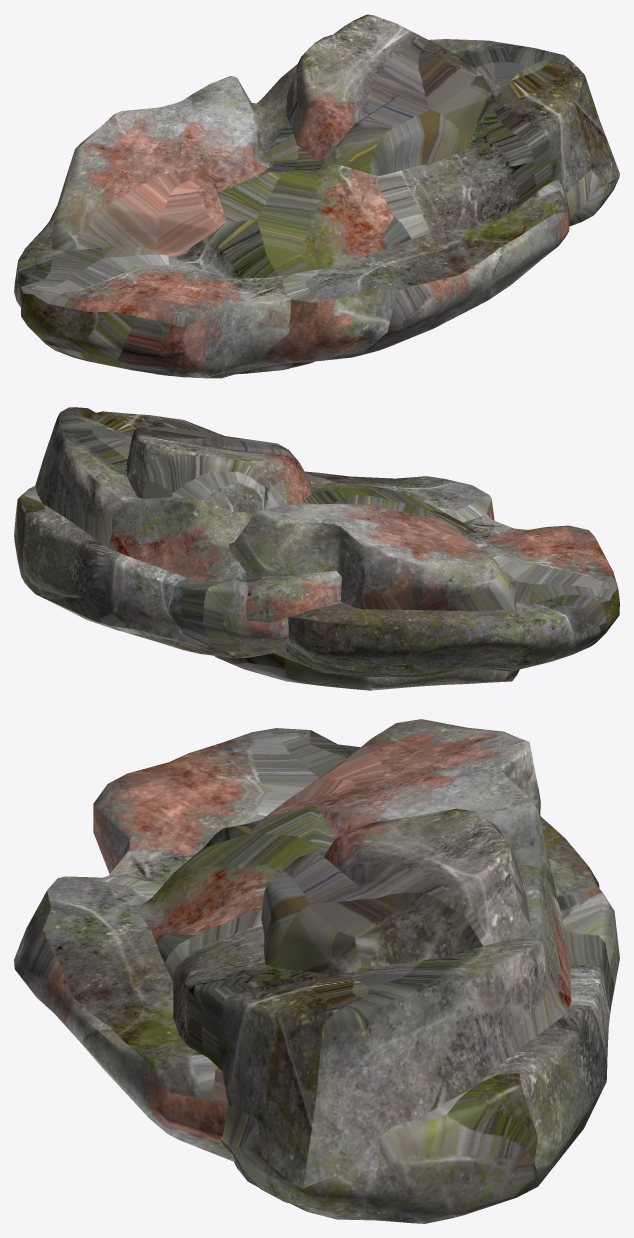
3 views of the same model, one above another, from view 1: azimuth 30°, elevation 25°; view 2: azimuth 150°, elevation 25°; view 3: azimuth 270°, elevation 25° (orthographic). The views are drawn at different scales.
Visible parts, largest first — view 1: SM_Mining_Node_Large_Iron_02_LOD0; view 2: SM_Mining_Node_Large_Iron_02_LOD0; view 3: SM_Mining_Node_Large_Iron_02_LOD0.
Part boxes in pixels (x1,y1,x2,y2): SM_Mining_Node_Large_Iron_02_LOD0: (14, 14, 619, 378); SM_Mining_Node_Large_Iron_02_LOD0: (14, 407, 619, 690); SM_Mining_Node_Large_Iron_02_LOD0: (14, 719, 619, 1223).
Size of the model in its own units: 5.52 by 2.18 by 3.38.
